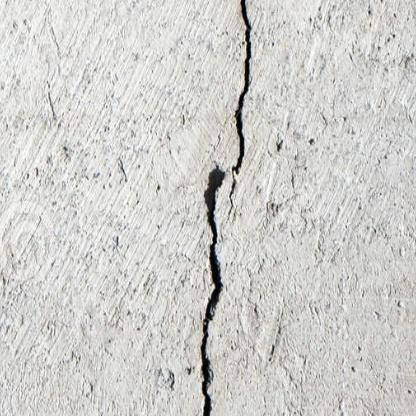Cracks: (200, 165, 229, 416), (228, 0, 255, 220)
